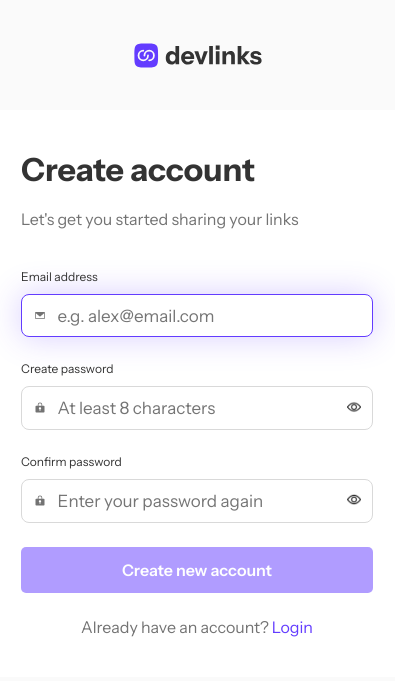
Scenario: <Register /> › displays error messages if password does not match
Step 1. Type "12345678" into the password field with placeholder "At least 8 characters" → (202, 408), box [58,398,347,418]
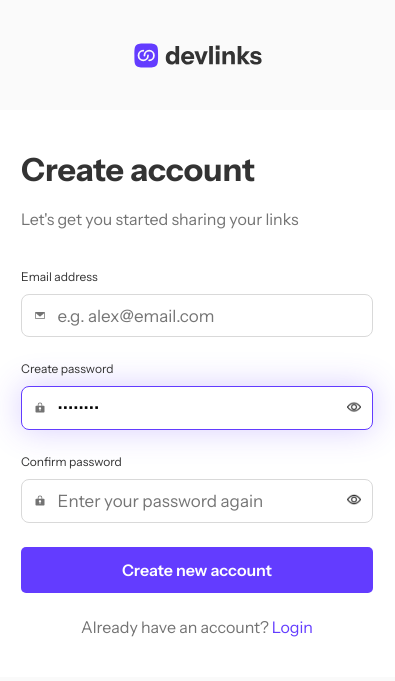
Step 2. Type "1234567" into the password field with placeholder "Enter your password again" → (202, 501), box [58,491,347,511]
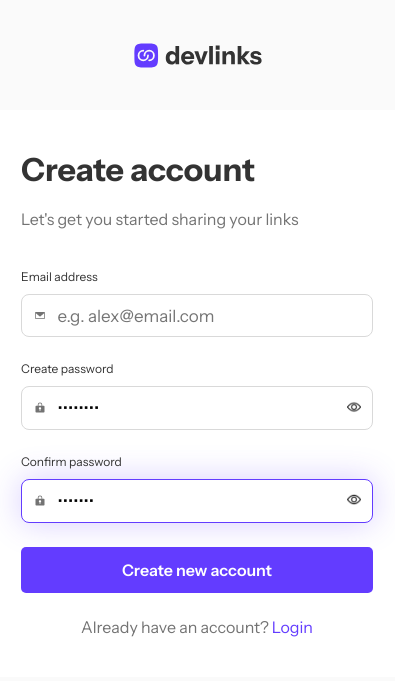
Step 3. Click the button with test id "register-button" → (197, 570), box [21,546,373,592]
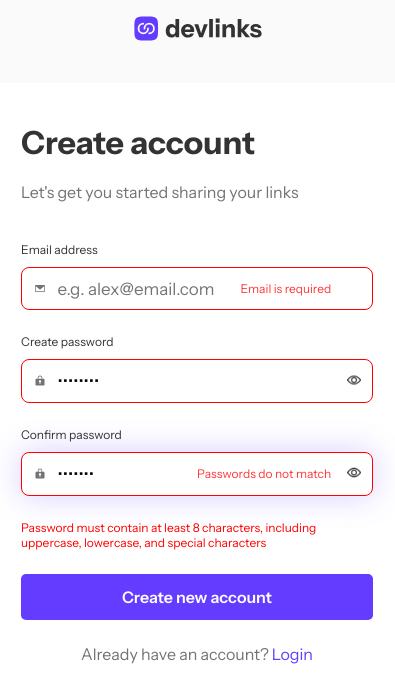
Now the text "Passwords do not match" is shown, box [197,466,331,481]
